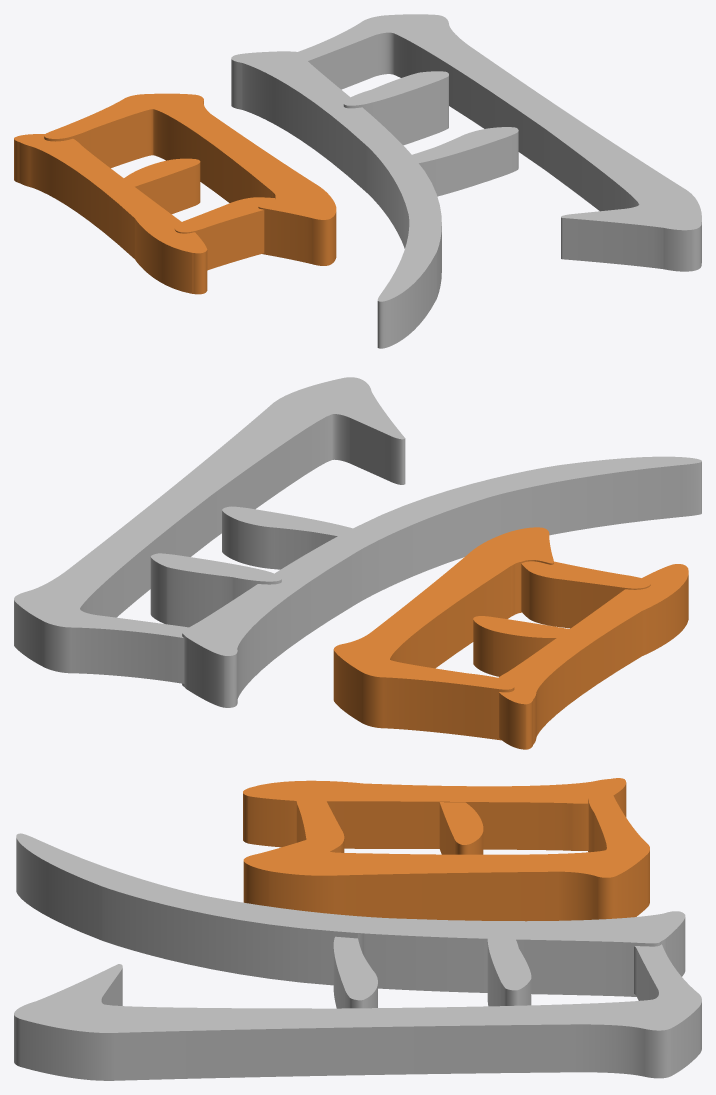
Rendered from hanzi162.fbx.
The picture shows the model from 3 angles, top to bottom: view 1: azimuth 30°, elevation 25°; view 2: azimuth 150°, elevation 25°; view 3: azimuth 270°, elevation 25°; orthographic projection. The views are drawn at different scales.
Visible parts, largest first — view 1: Curve.005, Curve.004, Curve.001, Curve, Curve.006, Curve.007, Curve.003, Curve.002; view 2: Curve.004, Curve.005, Curve.001, Curve, Curve.006, Curve.003, Curve.007, Curve.002; view 3: Curve.005, Curve.004, Curve.001, Curve, Curve.006, Curve.007, Curve.002, Curve.003.
Boxes of the visible parts, x1,y1,x2,y2 form: Curve.005: (297,14,701,271); Curve.004: (231,51,441,348); Curve.001: (44,93,336,265); Curve: (14,134,207,294); Curve.006: (343,71,448,145); Curve.007: (412,127,518,196); Curve.003: (174,197,275,270); Curve.002: (124,158,200,214); Curve.004: (182,456,701,707); Curve.005: (14,377,405,683); Curve.001: (333,527,553,740); Curve: (498,564,688,749); Curve.006: (150,553,281,627); Curve.003: (521,561,650,628); Curve.007: (222,506,352,569); Curve.002: (473,616,569,676); Curve.005: (14,944,701,1080); Curve.004: (16,833,685,996); Curve.001: (243,788,649,921); Curve: (243,778,626,850); Curve.006: (487,928,531,1006); Curve.007: (333,936,377,1008); Curve.002: (439,802,483,854); Curve.003: (296,792,344,852).
Bounding box in the file's own units: 20.25 × 23.07 × 2.24.
